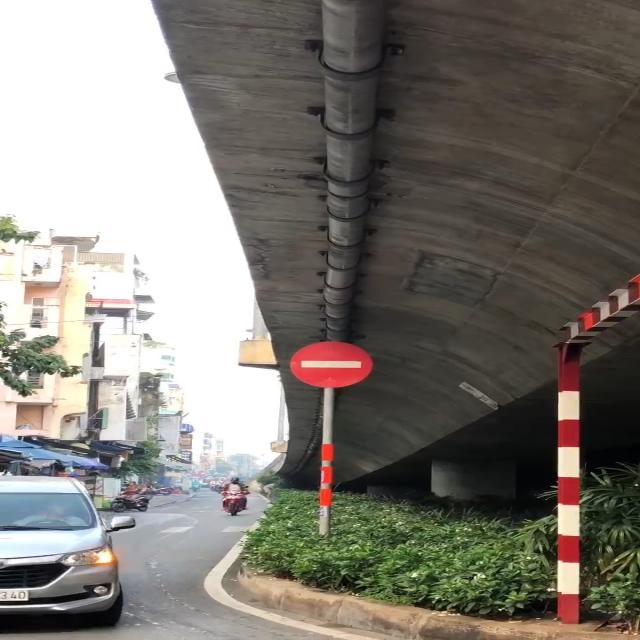Bien bao cam di nguoc chieu: (288, 340, 380, 392)
